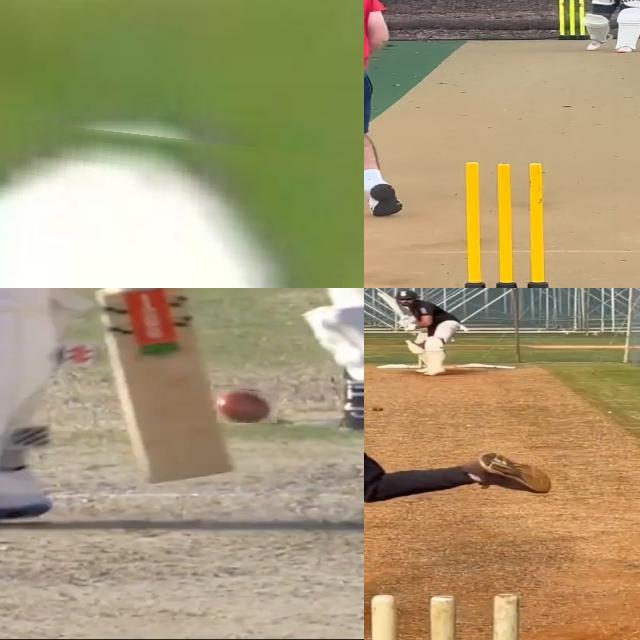Cricket ball: (0, 108, 353, 288), (218, 387, 280, 423), (372, 406, 384, 412)
Stumps: (450, 161, 561, 288), (369, 595, 520, 640), (555, 0, 587, 42)
